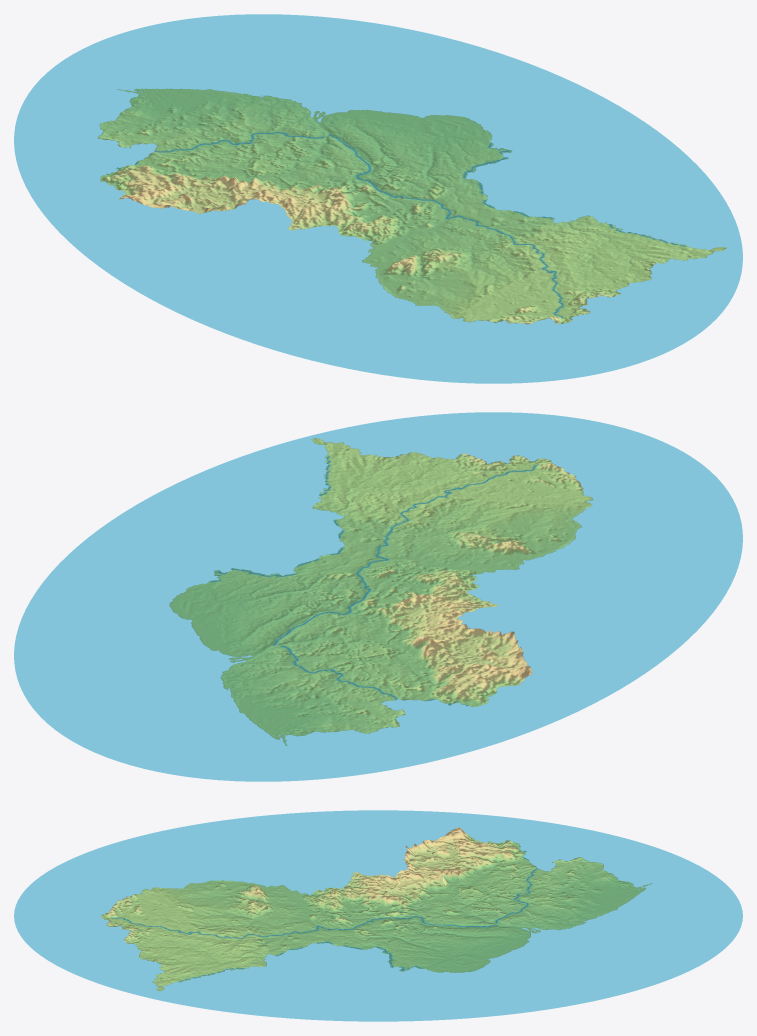
Rendered from GUY-terrain.glb.
3 views of the same model, one above another, from view 1: azimuth 30°, elevation 25°; view 2: azimuth 150°, elevation 25°; view 3: azimuth 270°, elevation 25° (orthographic). The views are drawn at different scales.
Visible parts, largest first — view 1: Relevo com hidrografia; view 2: Relevo com hidrografia; view 3: Relevo com hidrografia.
Boxes of the visible parts, <box> form: Relevo com hidrografia: <box>14,14,742,383</box>; Relevo com hidrografia: <box>14,412,742,781</box>; Relevo com hidrografia: <box>14,810,742,1021</box>.
Bounding box in the file's own units: 1.45 × 0.0465 × 2.11.
2 materials, 1 textured.
